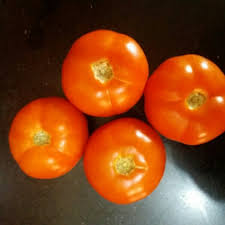tomato: (57, 29, 148, 117), (148, 56, 225, 142), (8, 96, 85, 178), (89, 125, 161, 203)
